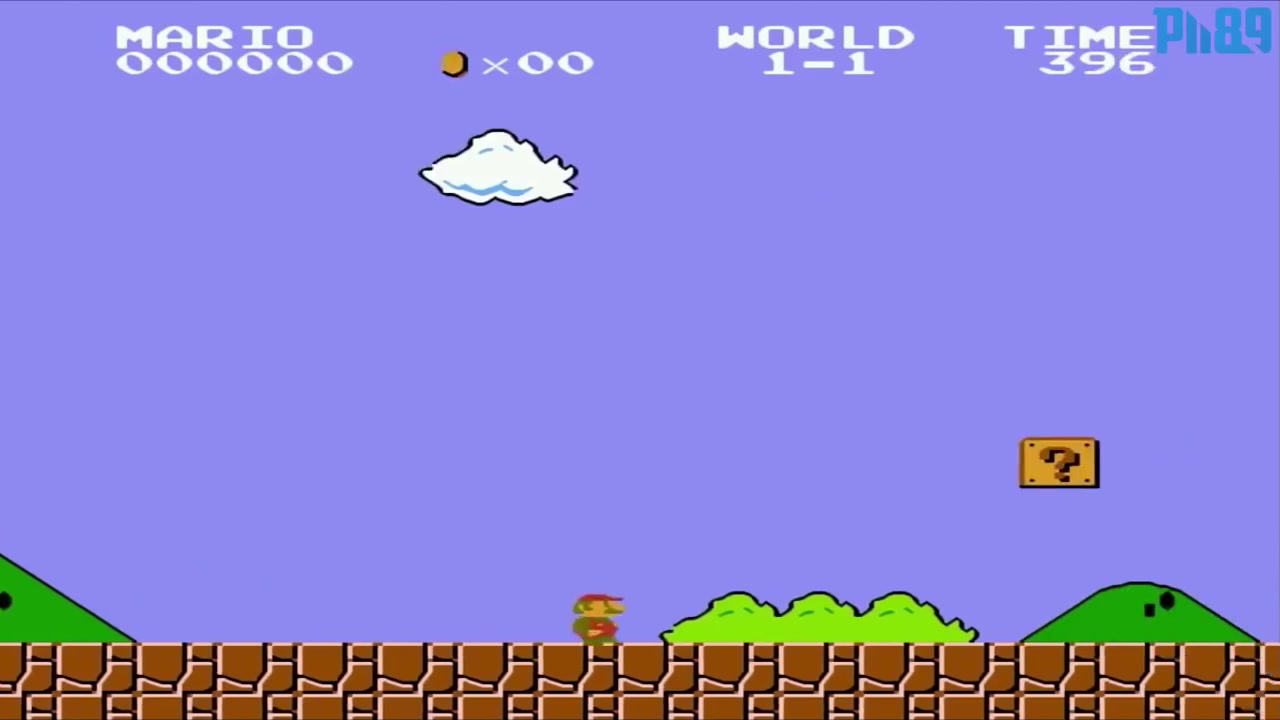mario: (552, 583, 642, 649)
